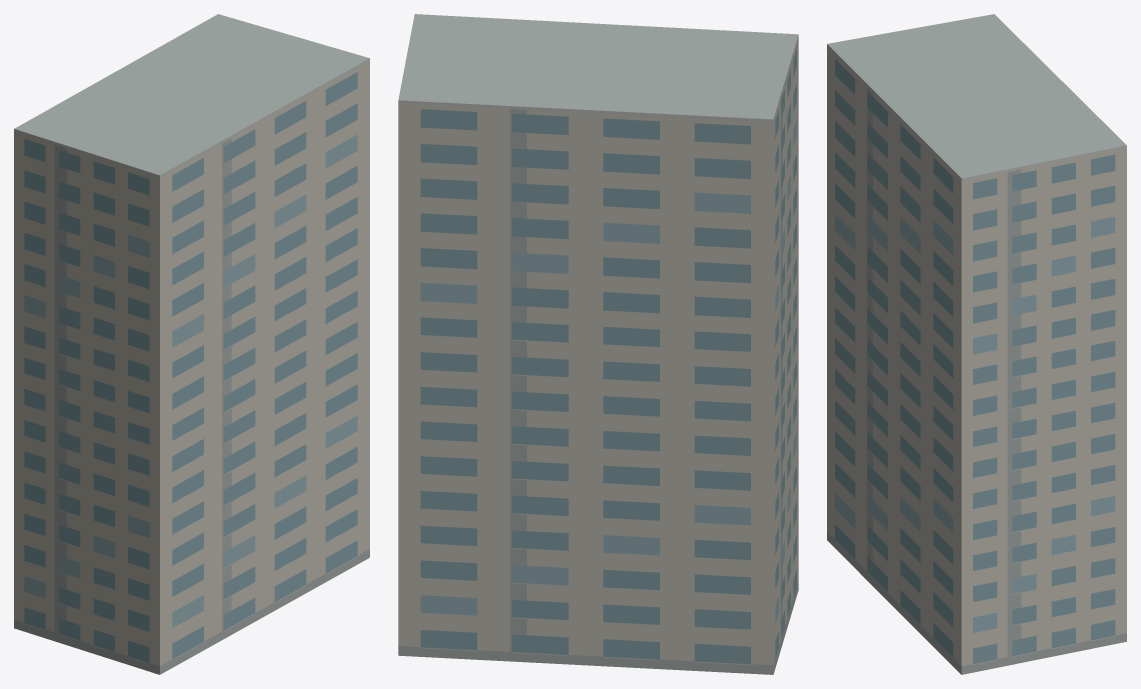
File: residential-6247f5c4-3e31-40e5-ac0a-d6d1c67186c8.glb
The picture shows the model from 3 angles, left to right: view 1: azimuth 30°, elevation 25°; view 2: azimuth 150°, elevation 25°; view 3: azimuth 270°, elevation 25°; orthographic projection. The views are drawn at different scales.
Parts seen in each view (by area): view 1: residential-6247f5c4-3e31-40e5-ac0a-d6d1c67186c8.tmp; view 2: residential-6247f5c4-3e31-40e5-ac0a-d6d1c67186c8.tmp; view 3: residential-6247f5c4-3e31-40e5-ac0a-d6d1c67186c8.tmp.
Part boxes in pixels (bbox=[...]): residential-6247f5c4-3e31-40e5-ac0a-d6d1c67186c8.tmp: bbox=[14, 14, 369, 674]; residential-6247f5c4-3e31-40e5-ac0a-d6d1c67186c8.tmp: bbox=[398, 14, 798, 674]; residential-6247f5c4-3e31-40e5-ac0a-d6d1c67186c8.tmp: bbox=[827, 14, 1126, 674].
Bounding box in the file's own units: 30.57 × 43 × 23.54.
